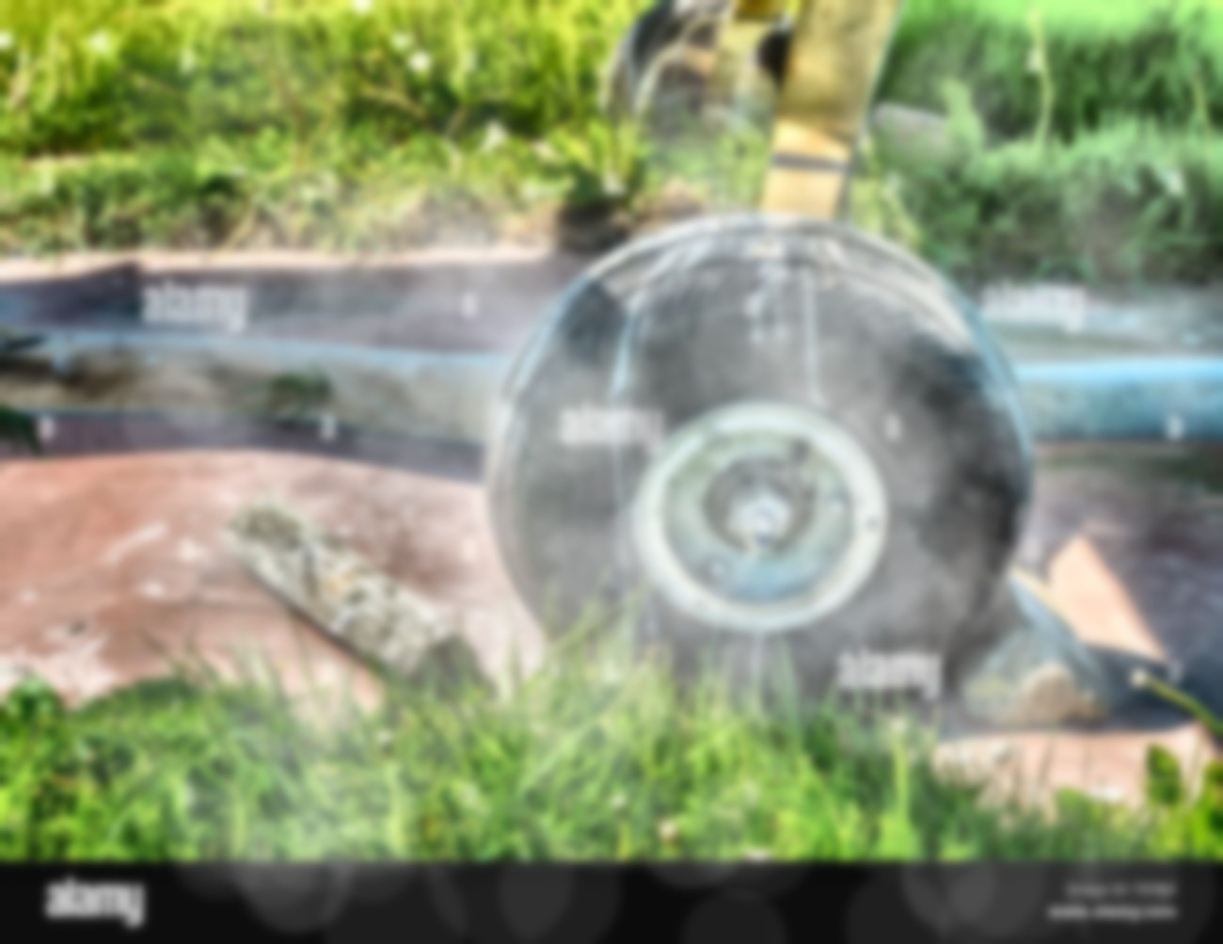chock: (220, 476, 481, 699), (950, 545, 1114, 733)
wheel: (484, 212, 1034, 703)
